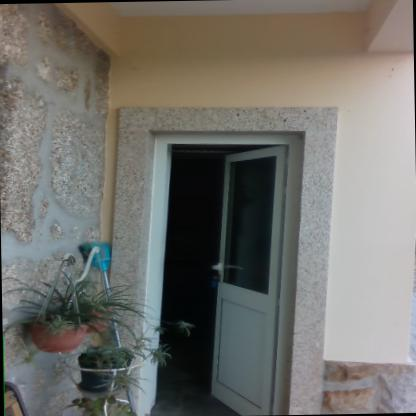semi: (129, 110, 319, 415)
